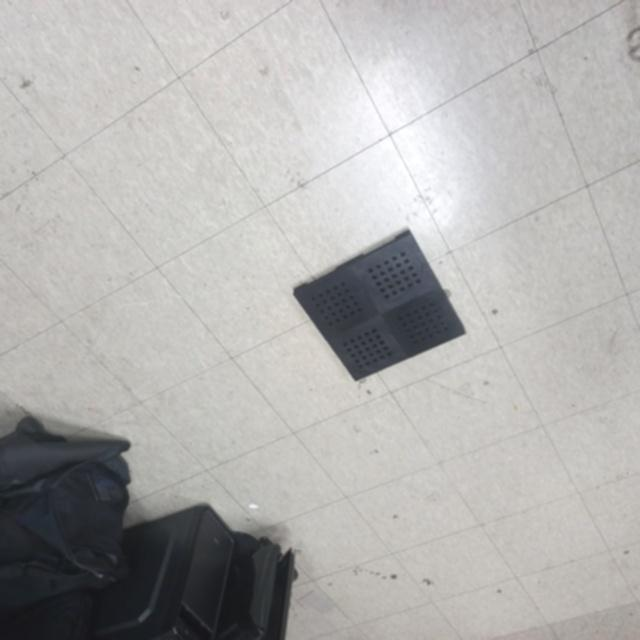pallet: (282, 230, 473, 388)
